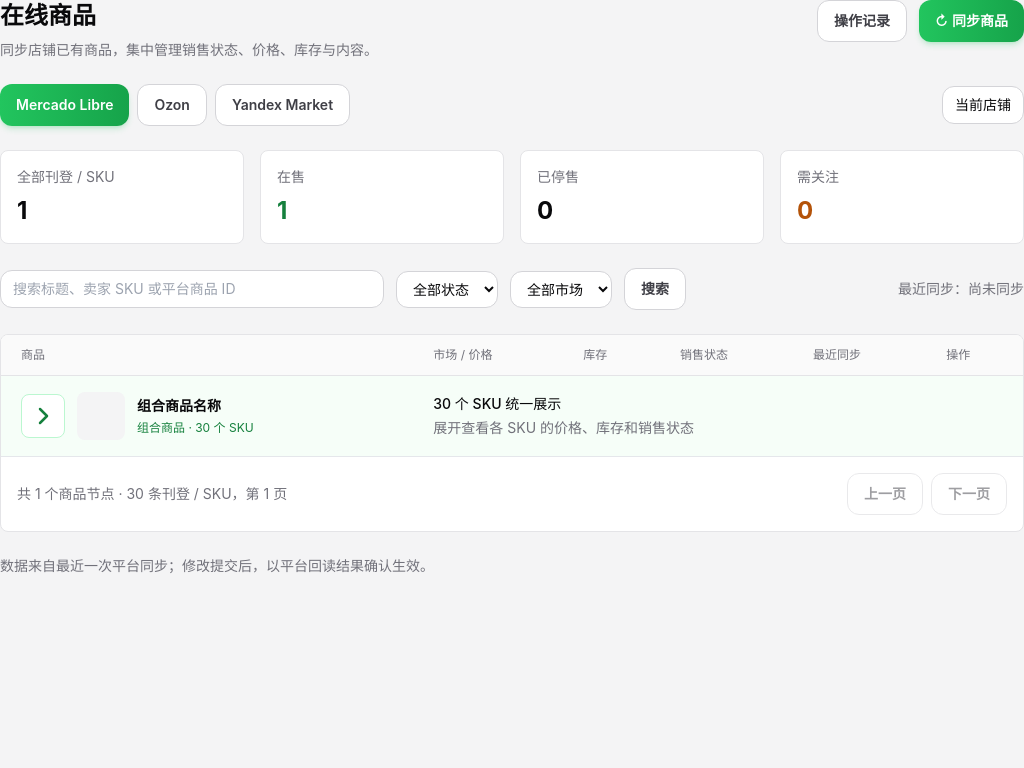
在线商品页面 › 组合默认折叠，展开后按 SKU 管理，收起不会提交商品修改
The image size is (1024, 768).
Expected: the button "下一页" is disabled, x1=931 y1=473 x2=1007 y2=515
Click the button "组合商品名称 组合商品 · 30 个 SKU": (137, 416) x1=21 y1=392 x2=254 y2=440
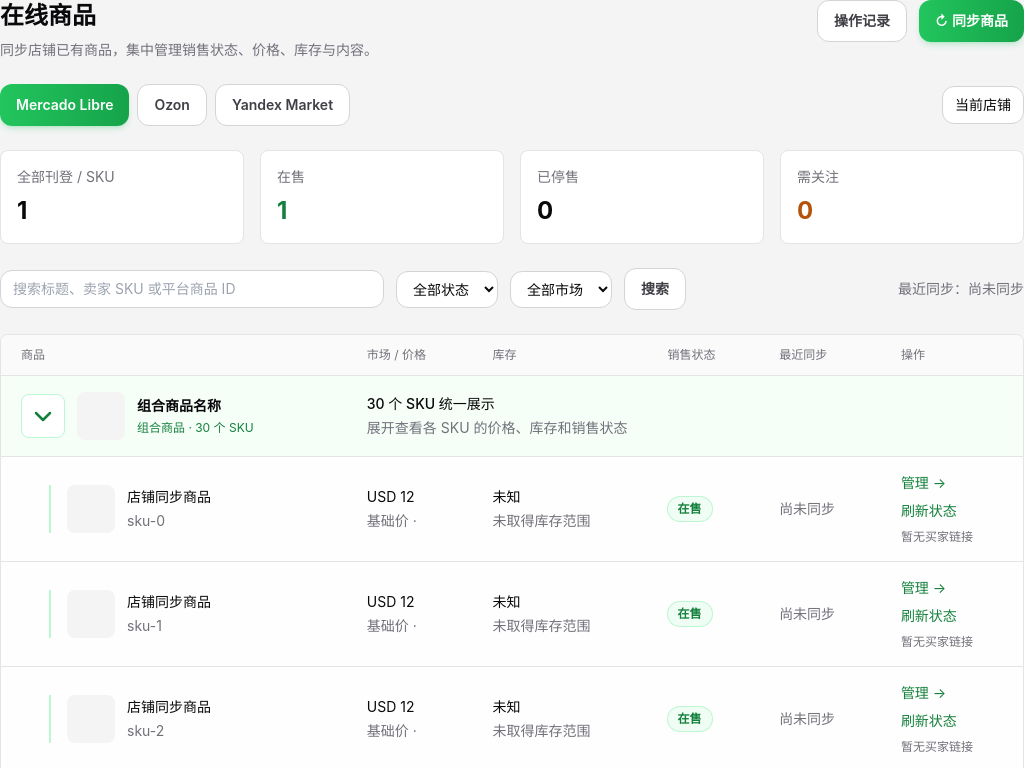
Expected: the button with test id "toggle-group" is expanded, x1=21 y1=392 x2=254 y2=440
Expected: the number of rows with test id "online-listing" is 30
Click the 2nd button "管理 →": (924, 588) x1=901 y1=578 x2=946 y2=598
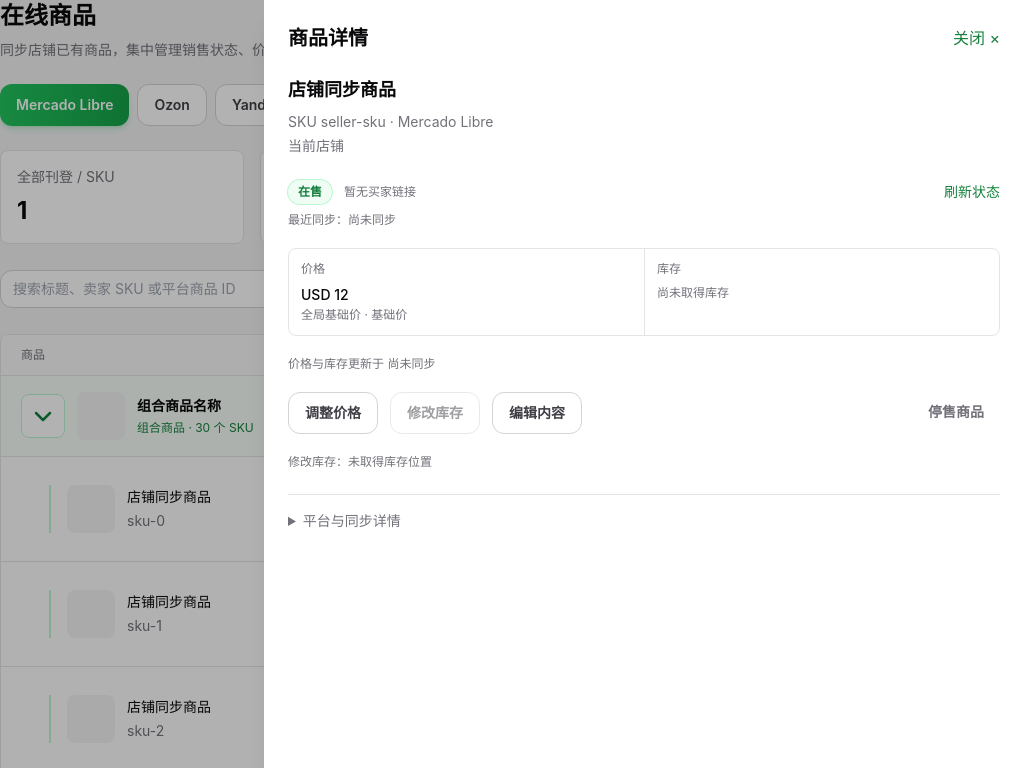
Expected: the button "关闭 ×" is shown
Click the button "关闭 ×": (976, 38) x1=953 y1=26 x2=1000 y2=50
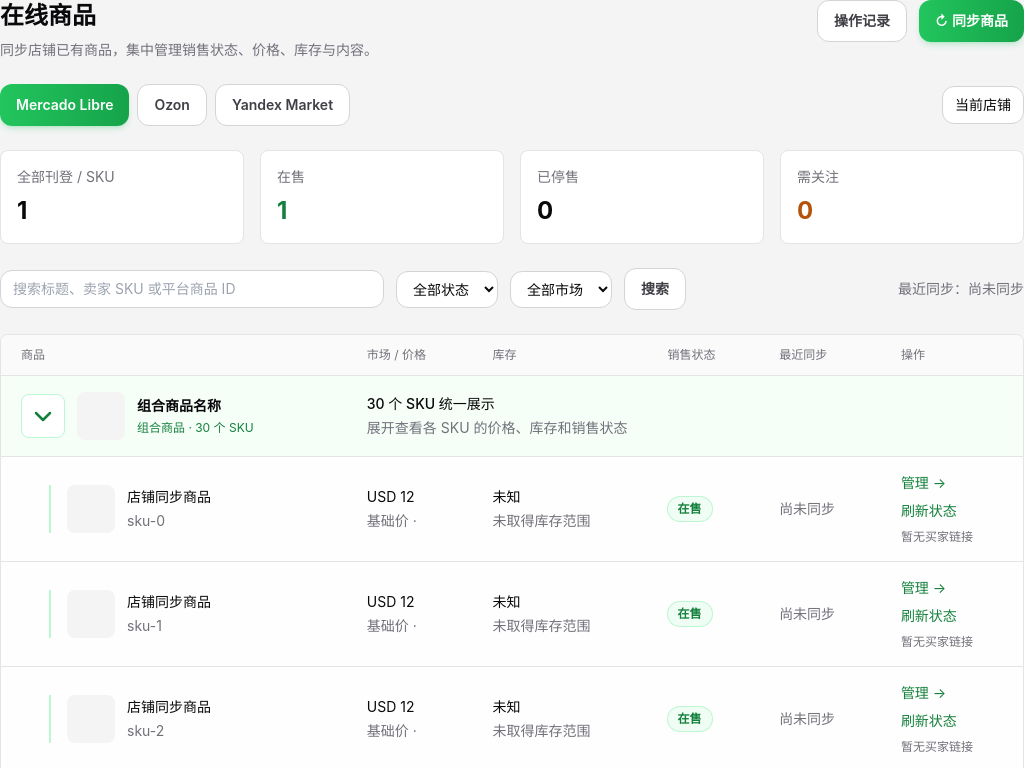
Click the button "组合商品名称 组合商品 · 30 个 SKU": (137, 416) x1=21 y1=392 x2=254 y2=440
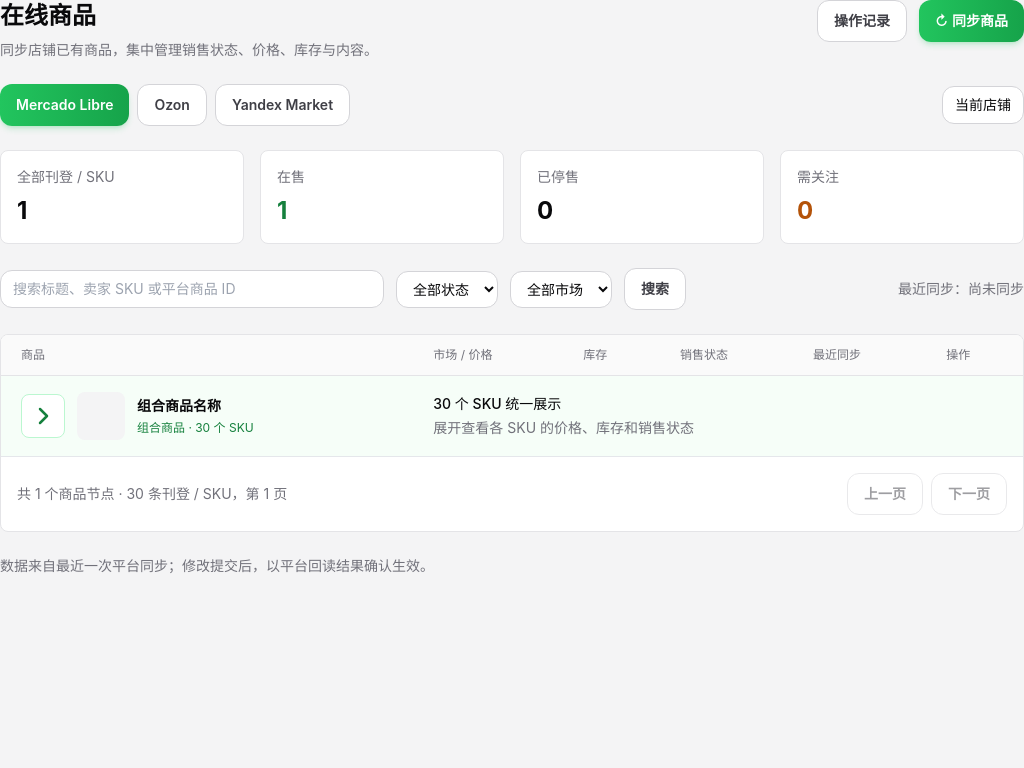
Expected: no rows with test id "online-listing" are shown
Click the button "组合商品名称 组合商品 · 30 个 SKU": (137, 416) x1=21 y1=392 x2=254 y2=440
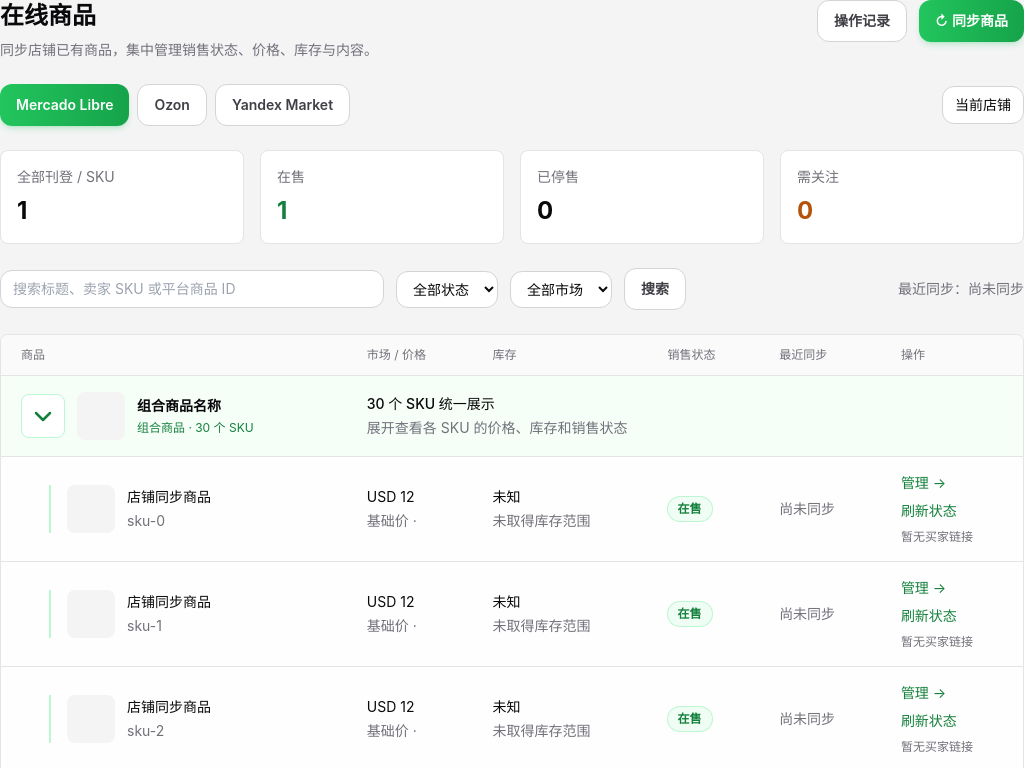
Expected: the number of rows with test id "online-listing" is 30
